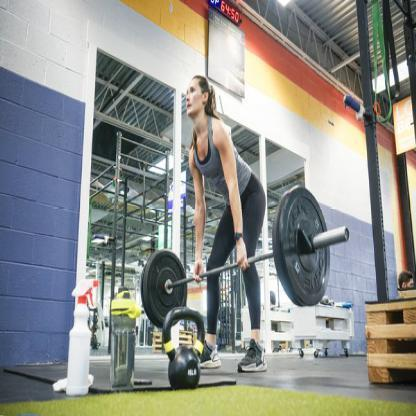barbell: (140, 183, 349, 328)
